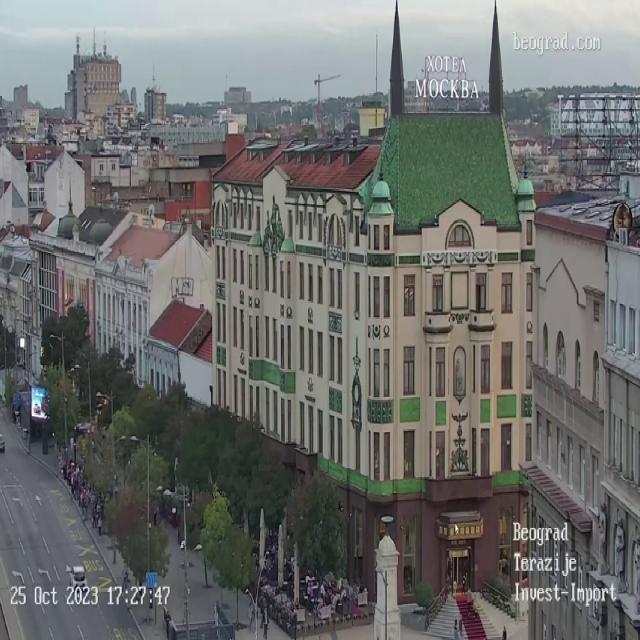car: (69, 565, 87, 593), (0, 433, 5, 452)
